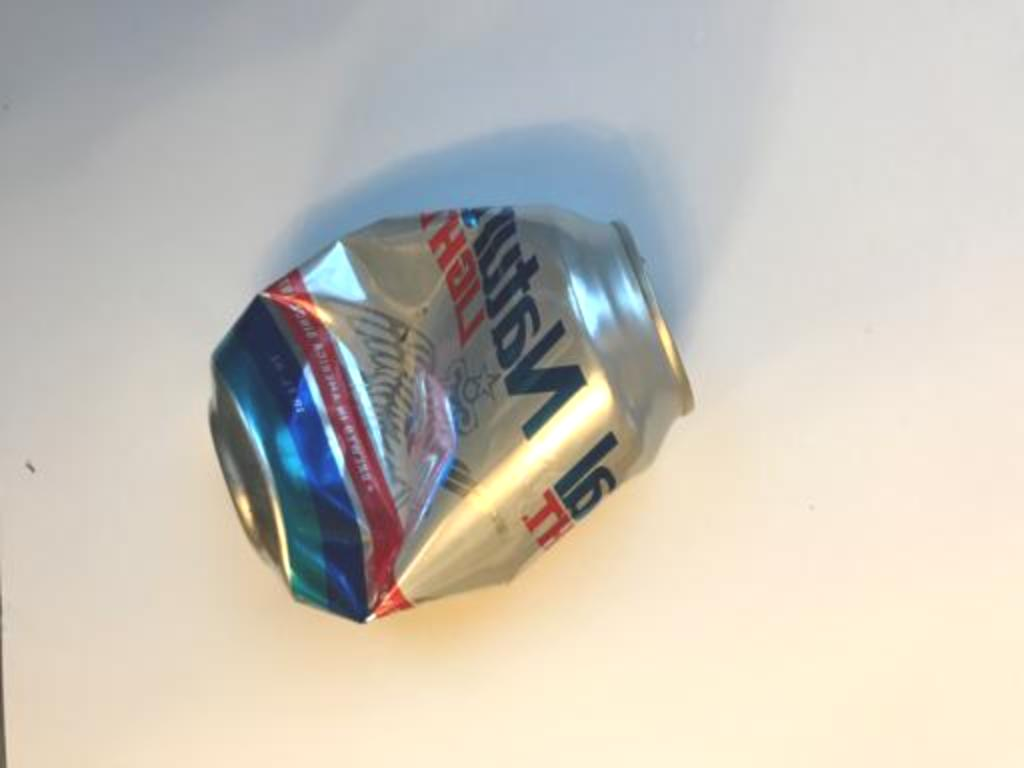garbage: (213, 168, 707, 638)
